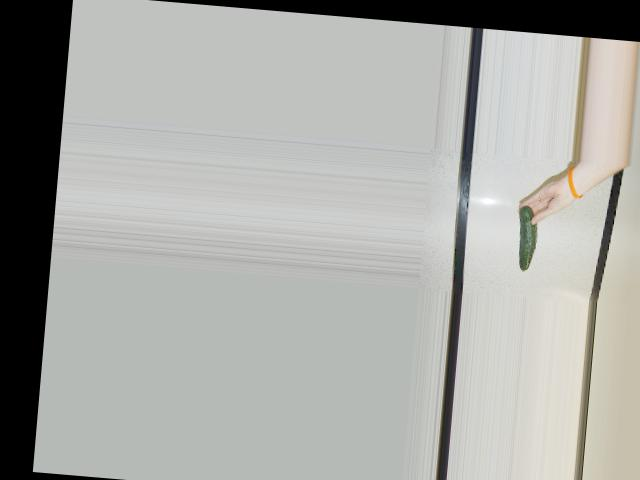cucumber: (513, 204, 538, 272)
